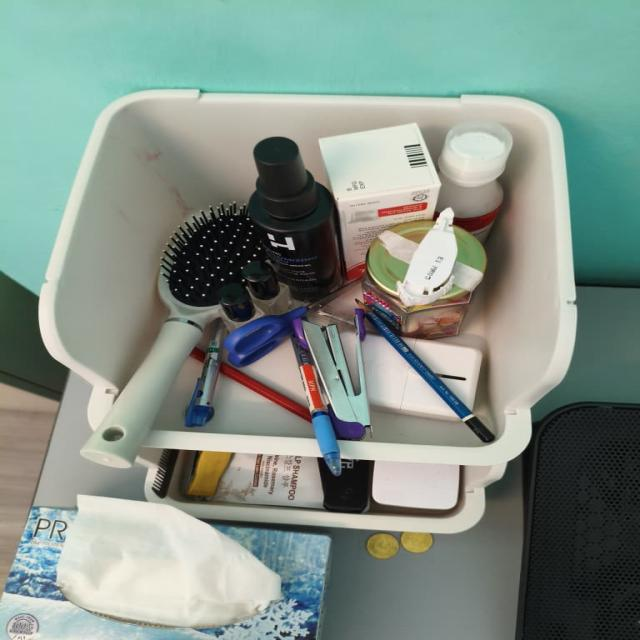pen: (291, 320, 341, 476), (185, 321, 225, 426)
pencil: (356, 299, 494, 442), (220, 362, 310, 421), (190, 348, 204, 361)
scissor: (223, 281, 359, 367)
stapler: (302, 310, 370, 438)
